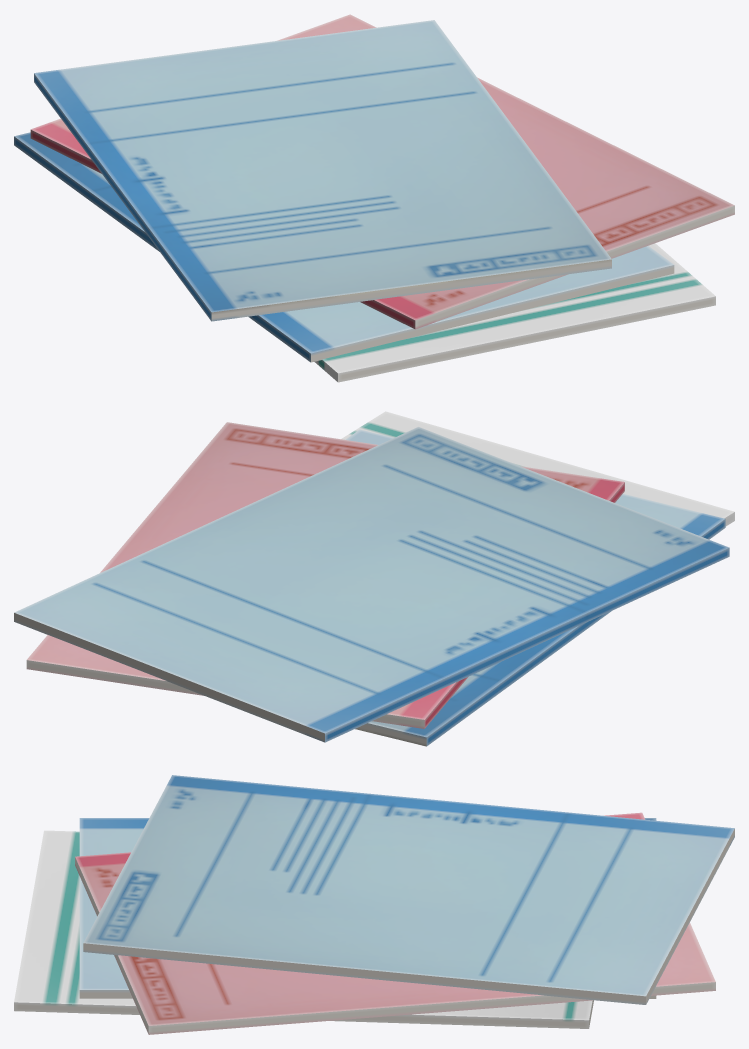
File: Textbook_01_04.fbx
3 views of the same model, one above another, from view 1: azimuth 30°, elevation 25°; view 2: azimuth 150°, elevation 25°; view 3: azimuth 270°, elevation 25° (orthographic). The views are drawn at different scales.
Visible parts, largest first — view 1: textbook07_02, textbook08_01, textbook07_01, textbook03_01; view 2: textbook07_02, textbook08_01, textbook07_01, textbook03_01; view 3: textbook07_02, textbook08_01, textbook03_01, textbook07_01.
Part boxes in pixels (x1,y1,x2,y2): textbook07_02: (34,20,611,321); textbook08_01: (30,14,734,329); textbook07_01: (14,132,674,362); textbook03_01: (314,243,715,382); textbook07_02: (14,427,729,742); textbook08_01: (26,422,624,728); textbook07_01: (345,429,725,746); textbook03_01: (341,411,734,526); textbook07_02: (83,775,734,1004); textbook08_01: (75,812,715,1034); textbook03_01: (14,830,593,1028); textbook07_01: (79,818,656,998).
Size of the model in its own units: 29.54 by 2.02 by 37.13.
